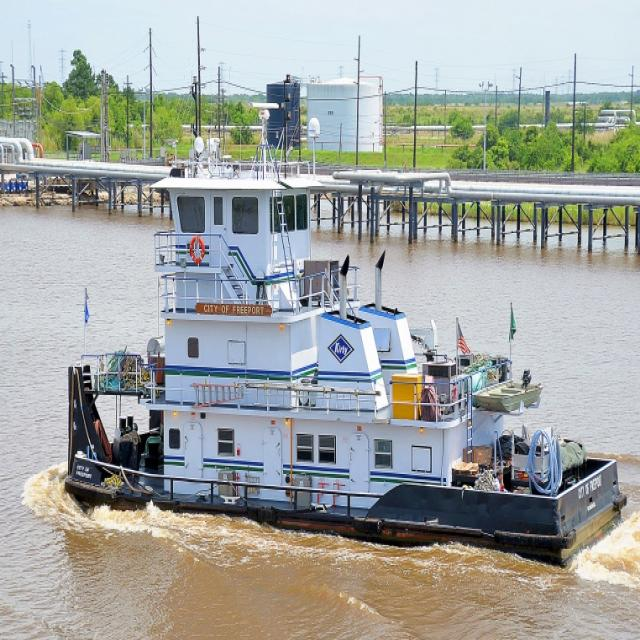tugboat: (54, 96, 633, 589)
